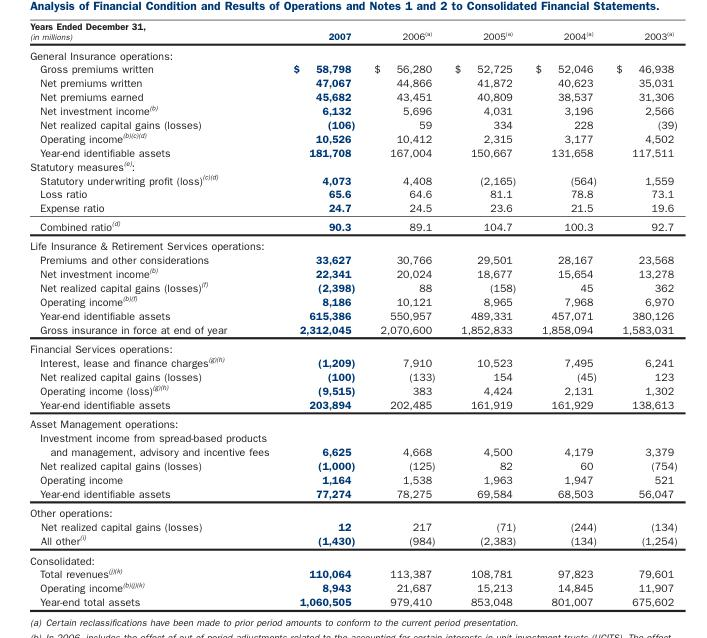table: (29, 29, 676, 607)
table column: (29, 29, 280, 607), (280, 29, 363, 607), (363, 29, 444, 607), (524, 29, 605, 607), (444, 29, 524, 607), (605, 29, 676, 607)
table column header: (29, 29, 676, 44)
table projected row header: (29, 44, 676, 61), (29, 235, 676, 252), (29, 413, 676, 430), (29, 502, 676, 519), (29, 338, 676, 354), (29, 549, 676, 565), (29, 158, 676, 172)
table row: (29, 430, 676, 457), (29, 215, 676, 235), (29, 44, 676, 61), (29, 235, 676, 252), (29, 321, 676, 338), (29, 396, 676, 413), (29, 413, 676, 430), (29, 485, 676, 502), (29, 502, 676, 519), (29, 532, 676, 549), (29, 338, 676, 354), (29, 549, 676, 565), (29, 29, 676, 44), (29, 102, 676, 117), (29, 200, 676, 215), (29, 579, 676, 594), (29, 61, 676, 75), (29, 75, 676, 89), (29, 130, 676, 144), (29, 144, 676, 158), (29, 158, 676, 172), (29, 172, 676, 186), (29, 186, 676, 200), (29, 265, 676, 279), (29, 279, 676, 293), (29, 293, 676, 307), (29, 307, 676, 321), (29, 354, 676, 368), (29, 368, 676, 382), (29, 382, 676, 396), (29, 457, 676, 471), (29, 471, 676, 485), (29, 565, 676, 579), (29, 89, 676, 102), (29, 117, 676, 130), (29, 252, 676, 265), (29, 519, 676, 532), (29, 594, 676, 607)
